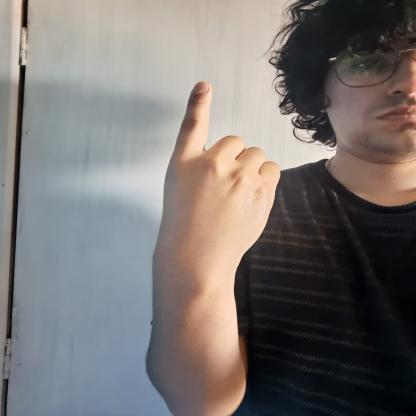T: (166, 78, 281, 260)
